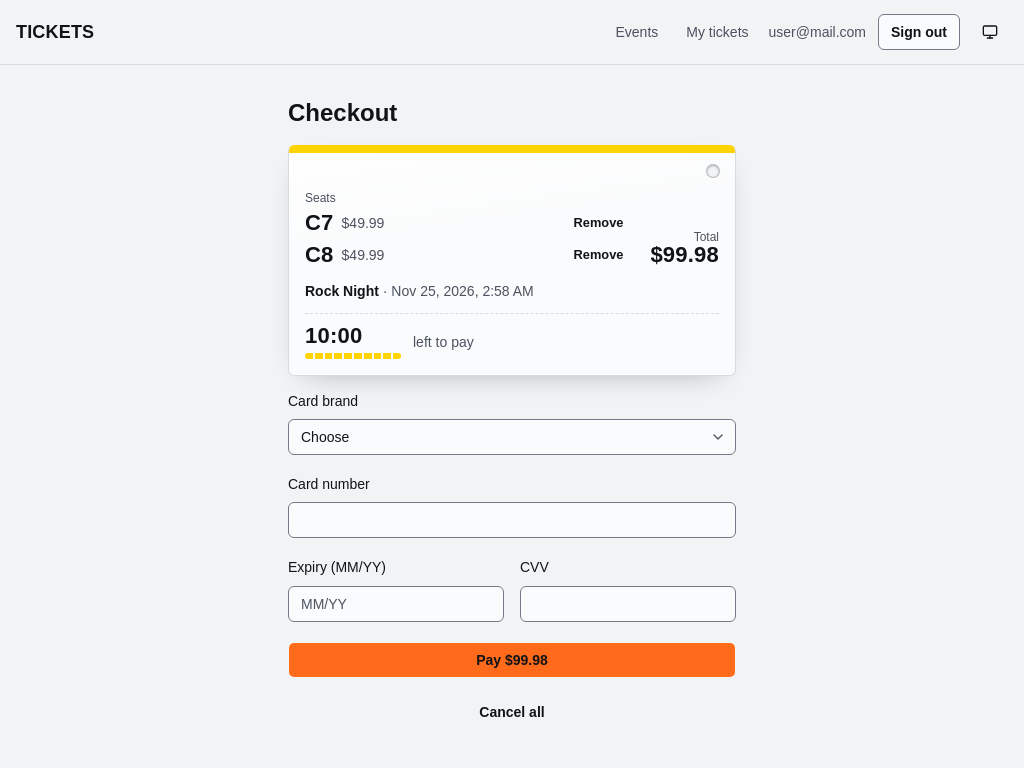
it: removing a seat from the group › goes to the single-reservation link when one is left
Click the button with aria-label "Remove C7": (598, 223) x1=563 y1=209 x2=634 y2=237
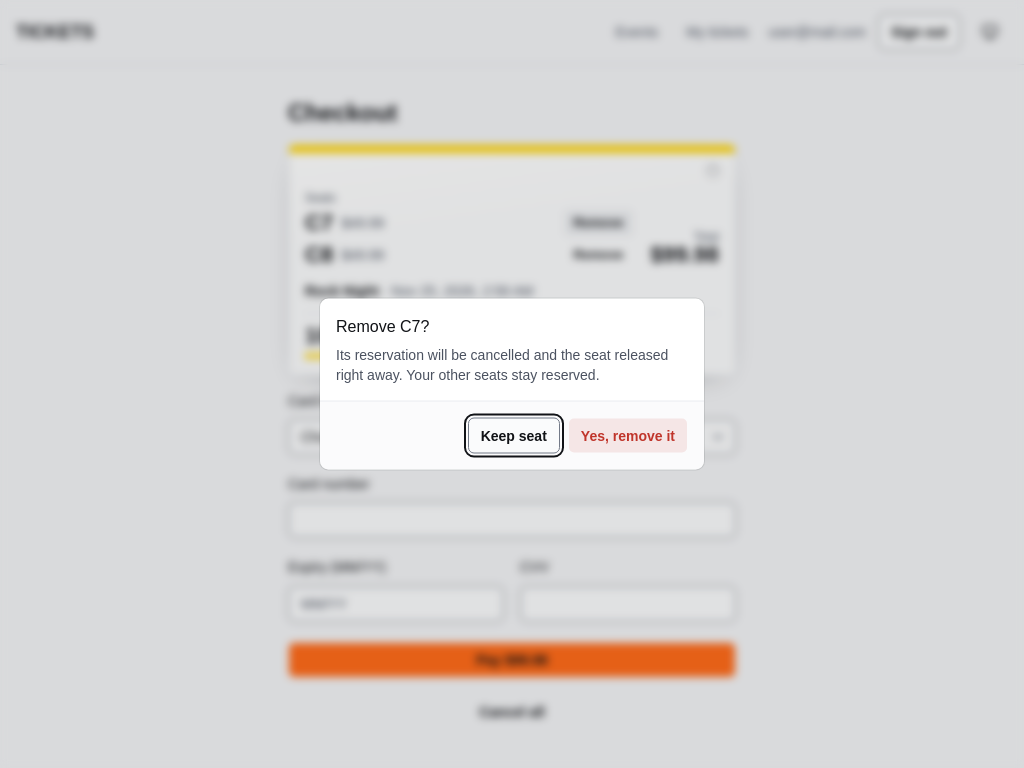
Click the button "Yes, remove it": (628, 436) x1=568 y1=418 x2=688 y2=454
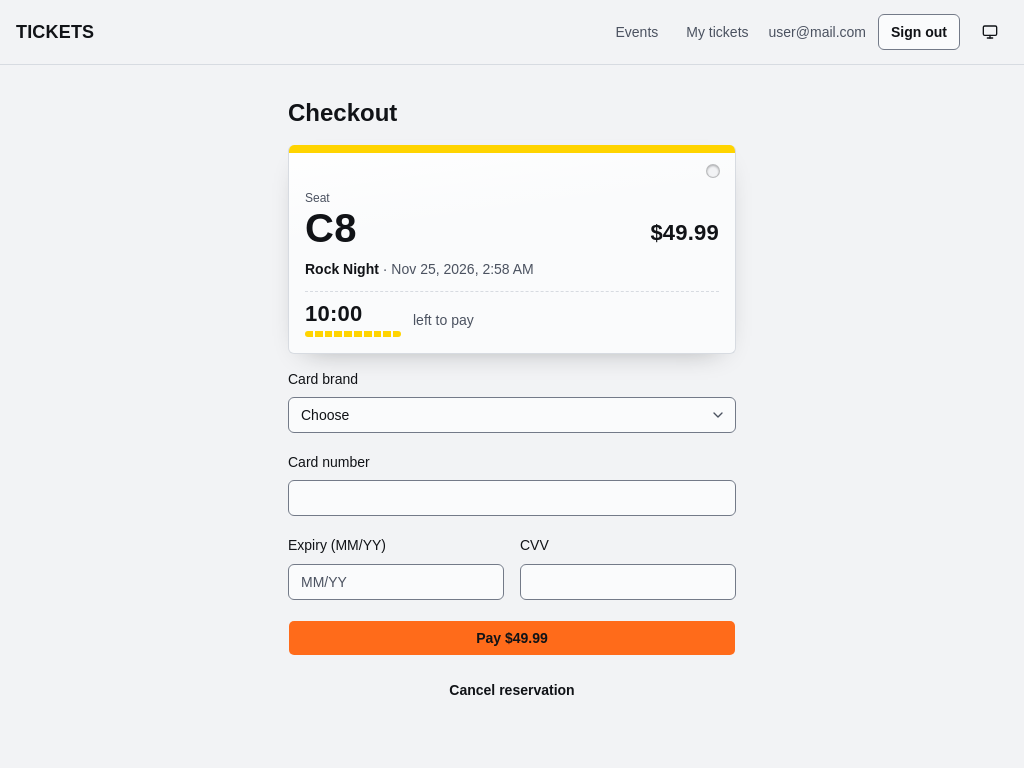
Check: the button "Pay $49.99" is shown, box x1=288 y1=620 x2=736 y2=656
Check: the button "Remove " is gone
Check: the button "Cancel reservation" is shown, box x1=288 y1=672 x2=736 y2=708
